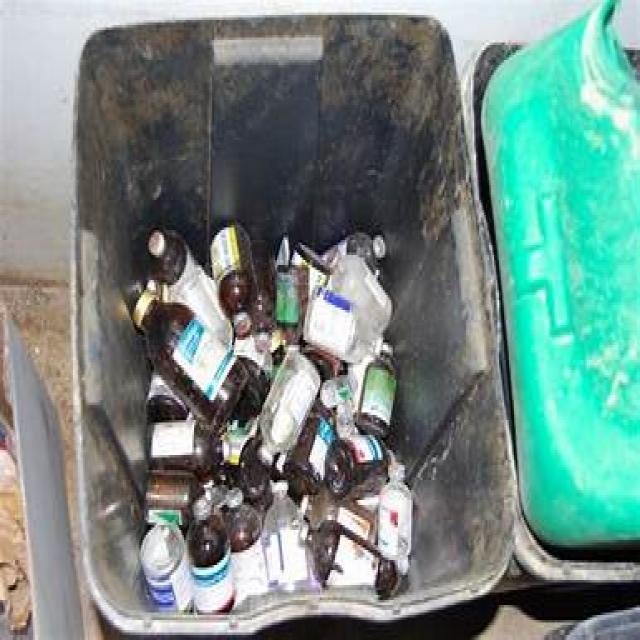Garbage: (74, 21, 514, 633)
Glass_bottle: (132, 290, 248, 431), (306, 507, 401, 598), (188, 498, 234, 613), (225, 490, 269, 606), (211, 222, 256, 318), (150, 413, 212, 476), (356, 343, 396, 438)
